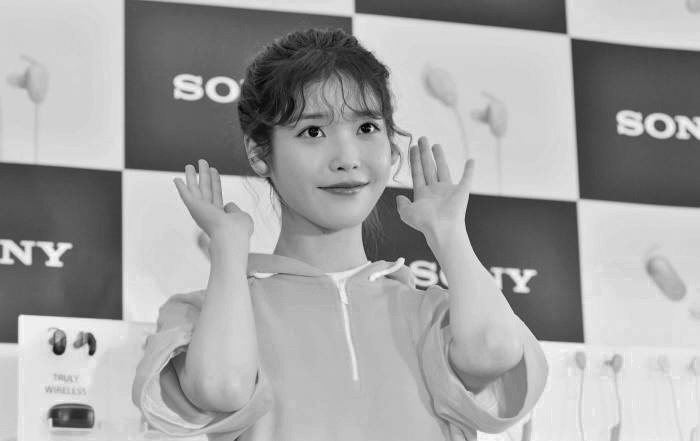earphone: (244, 135, 275, 179)
